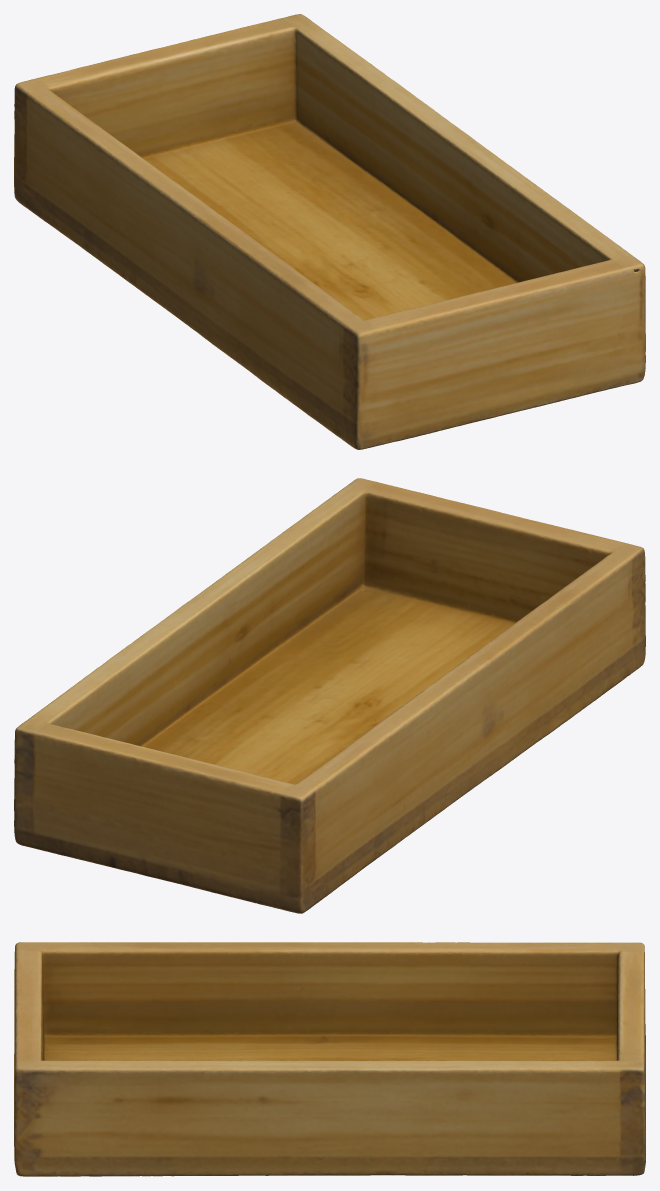
File: Design_Ideas_Drawer_Store_Organizer.glb
The picture shows the model from 3 angles, top to bottom: view 1: azimuth 30°, elevation 25°; view 2: azimuth 150°, elevation 25°; view 3: azimuth 270°, elevation 25°; orthographic projection. The views are drawn at different scales.
Parts seen in each view (by area): view 1: geometry_0; view 2: geometry_0; view 3: geometry_0.
Part boxes in pixels (x1=…): geometry_0: x1=14, y1=14, x2=645, y2=449; geometry_0: x1=14, y1=478, x2=645, y2=913; geometry_0: x1=14, y1=942, x2=645, y2=1176.
Bounding box in the file's own units: 0.4834 × 0.1891 × 0.9993.
Materials: 1 (1 with a texture image).
